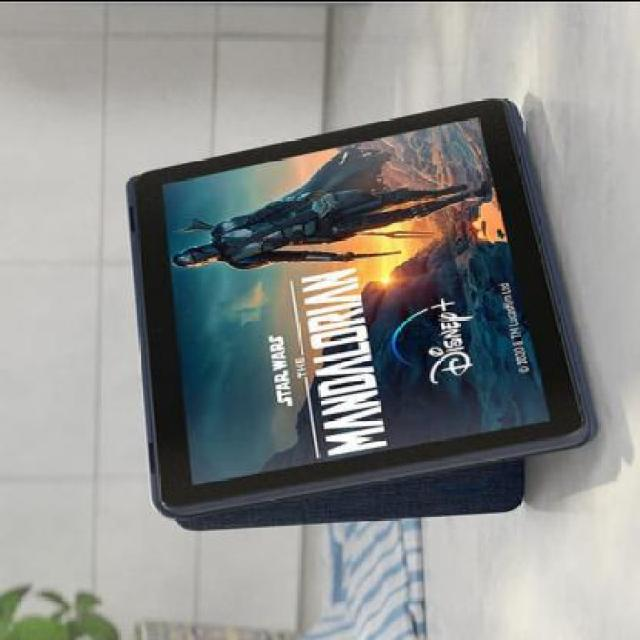tablet: (108, 84, 593, 540)
